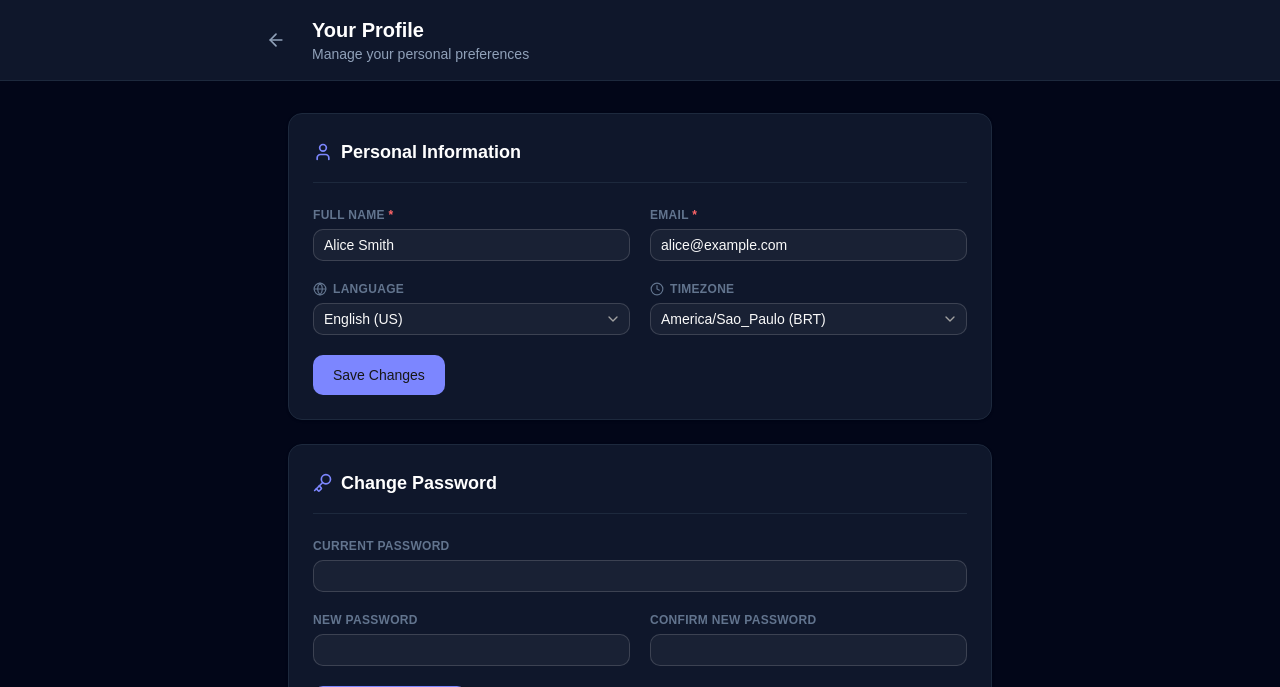
Scenario: ProfileRoute — save profile › shows the Saved indicator after a successful save
Step 1. Click the button "Save Changes" → point(379, 375), box [313,355,445,395]
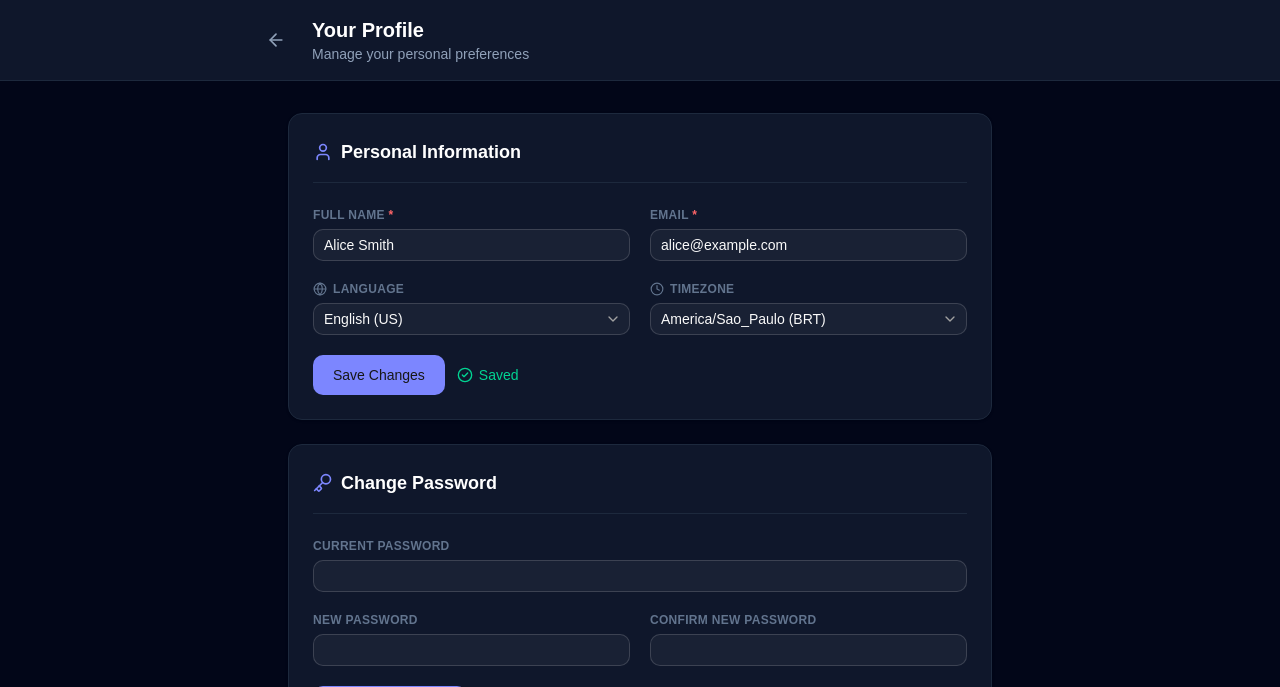
Expected: the element with test id "profile-saved" is shown, [457,365,518,385]
